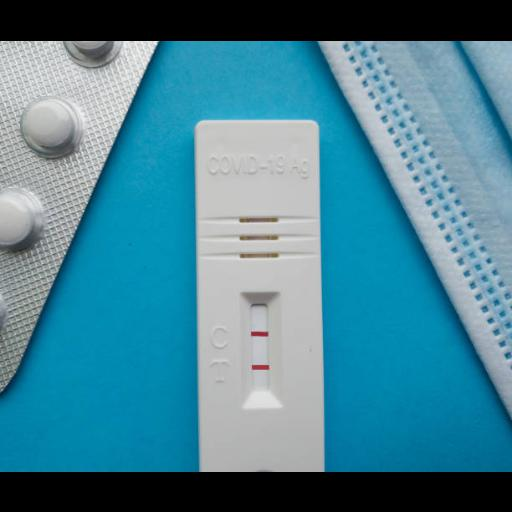Pos: (194, 117, 324, 471)
